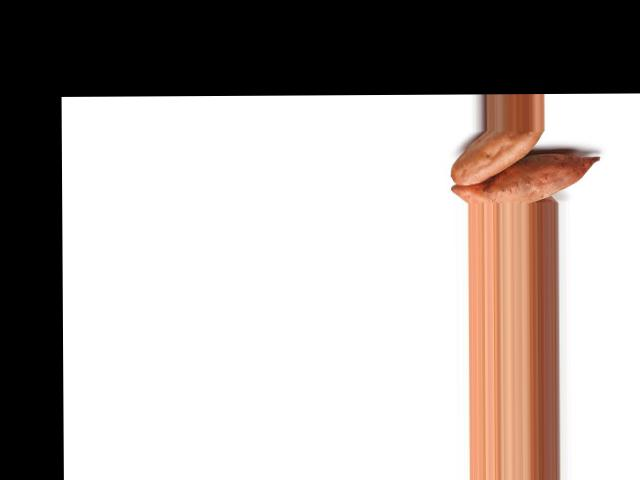sweet_potato: (450, 129, 550, 184)
